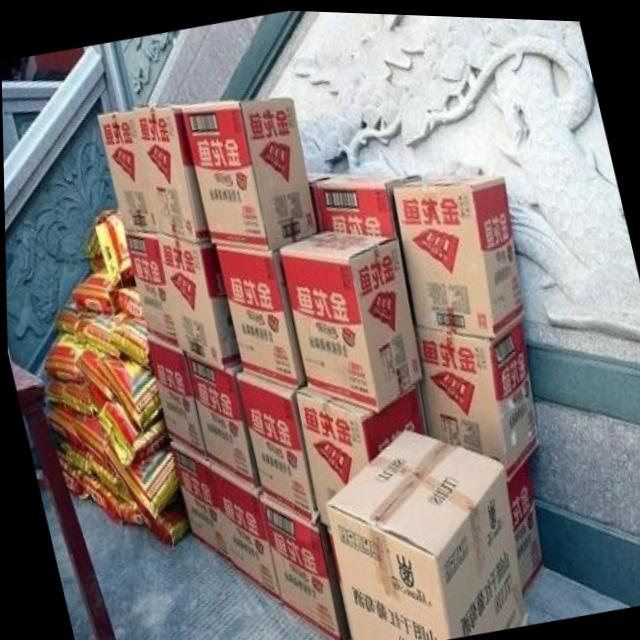box: (324, 425, 523, 640), (278, 227, 420, 409), (391, 172, 522, 334), (182, 93, 317, 249), (413, 313, 537, 478), (294, 378, 426, 526), (315, 170, 420, 322), (257, 493, 347, 640), (214, 242, 304, 388), (234, 369, 316, 524), (156, 230, 240, 368), (132, 101, 209, 240), (208, 461, 281, 602), (183, 351, 259, 486), (168, 439, 230, 566), (145, 333, 205, 458), (97, 111, 156, 230), (123, 229, 177, 347), (504, 454, 541, 593), (325, 524, 350, 638), (306, 169, 341, 230)
